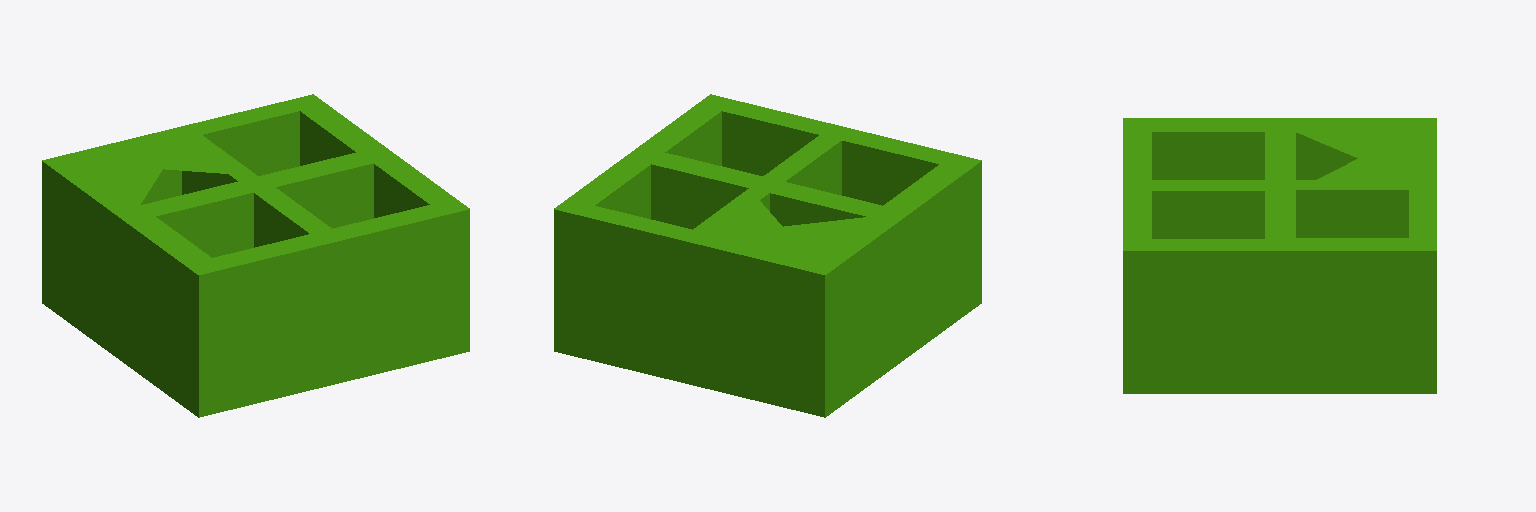
Rendered from trap1.obj.
The picture shows the model from 3 angles: view 1: azimuth 30°, elevation 25°; view 2: azimuth 150°, elevation 25°; view 3: azimuth 270°, elevation 25°; orthographic projection.
Parts seen in each view (by area): view 1: Box001; view 2: Box001; view 3: Box001.
Boxes of the visible parts, x1,y1,x2,y2 form: Box001: [42, 94, 469, 417]; Box001: [554, 94, 981, 417]; Box001: [1123, 118, 1436, 393].
Size of the model in its own units: 50 by 25 by 50.